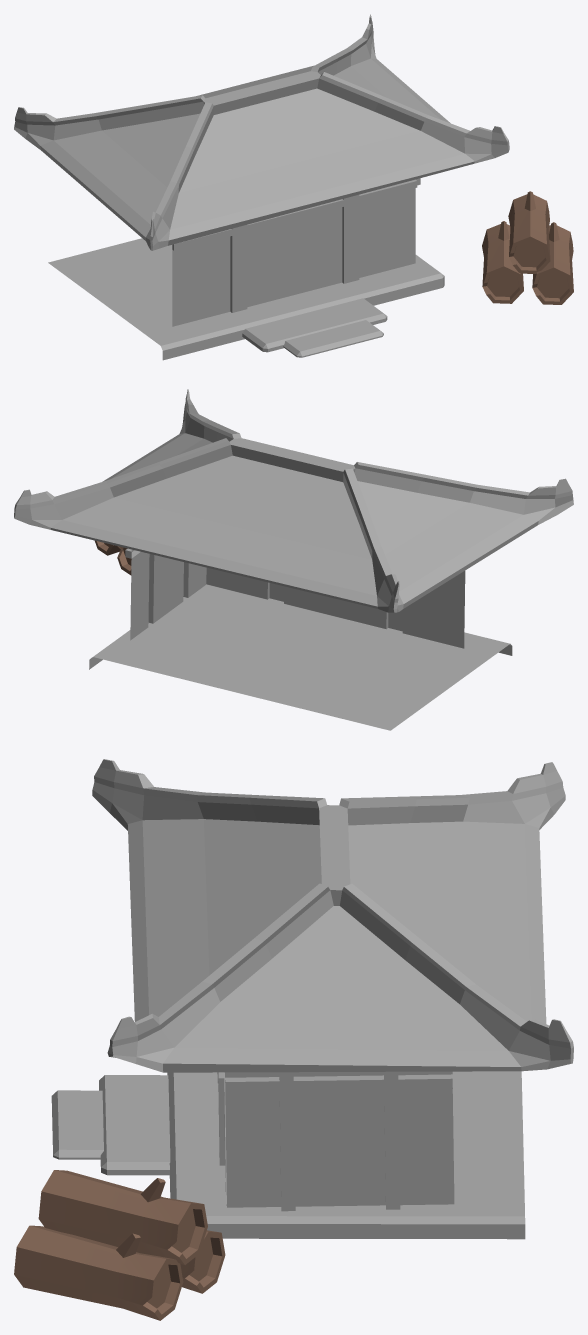
The model's file is chinahouse_2.fbx.
3 views of the same model, one above another, from view 1: azimuth 30°, elevation 25°; view 2: azimuth 150°, elevation 25°; view 3: azimuth 270°, elevation 25° (orthographic). The views are drawn at different scales.
Visible parts, largest first — view 1: chinahouse_2; view 2: chinahouse_2; view 3: chinahouse_2.
Boxes of the visible parts, x1=… form: chinahouse_2: x1=14, y1=14, x2=573, y2=360; chinahouse_2: x1=14, y1=389, x2=573, y2=730; chinahouse_2: x1=14, y1=759, x2=573, y2=1320.
Bounding box in the file's own units: 4.65 × 2 × 3.34.
